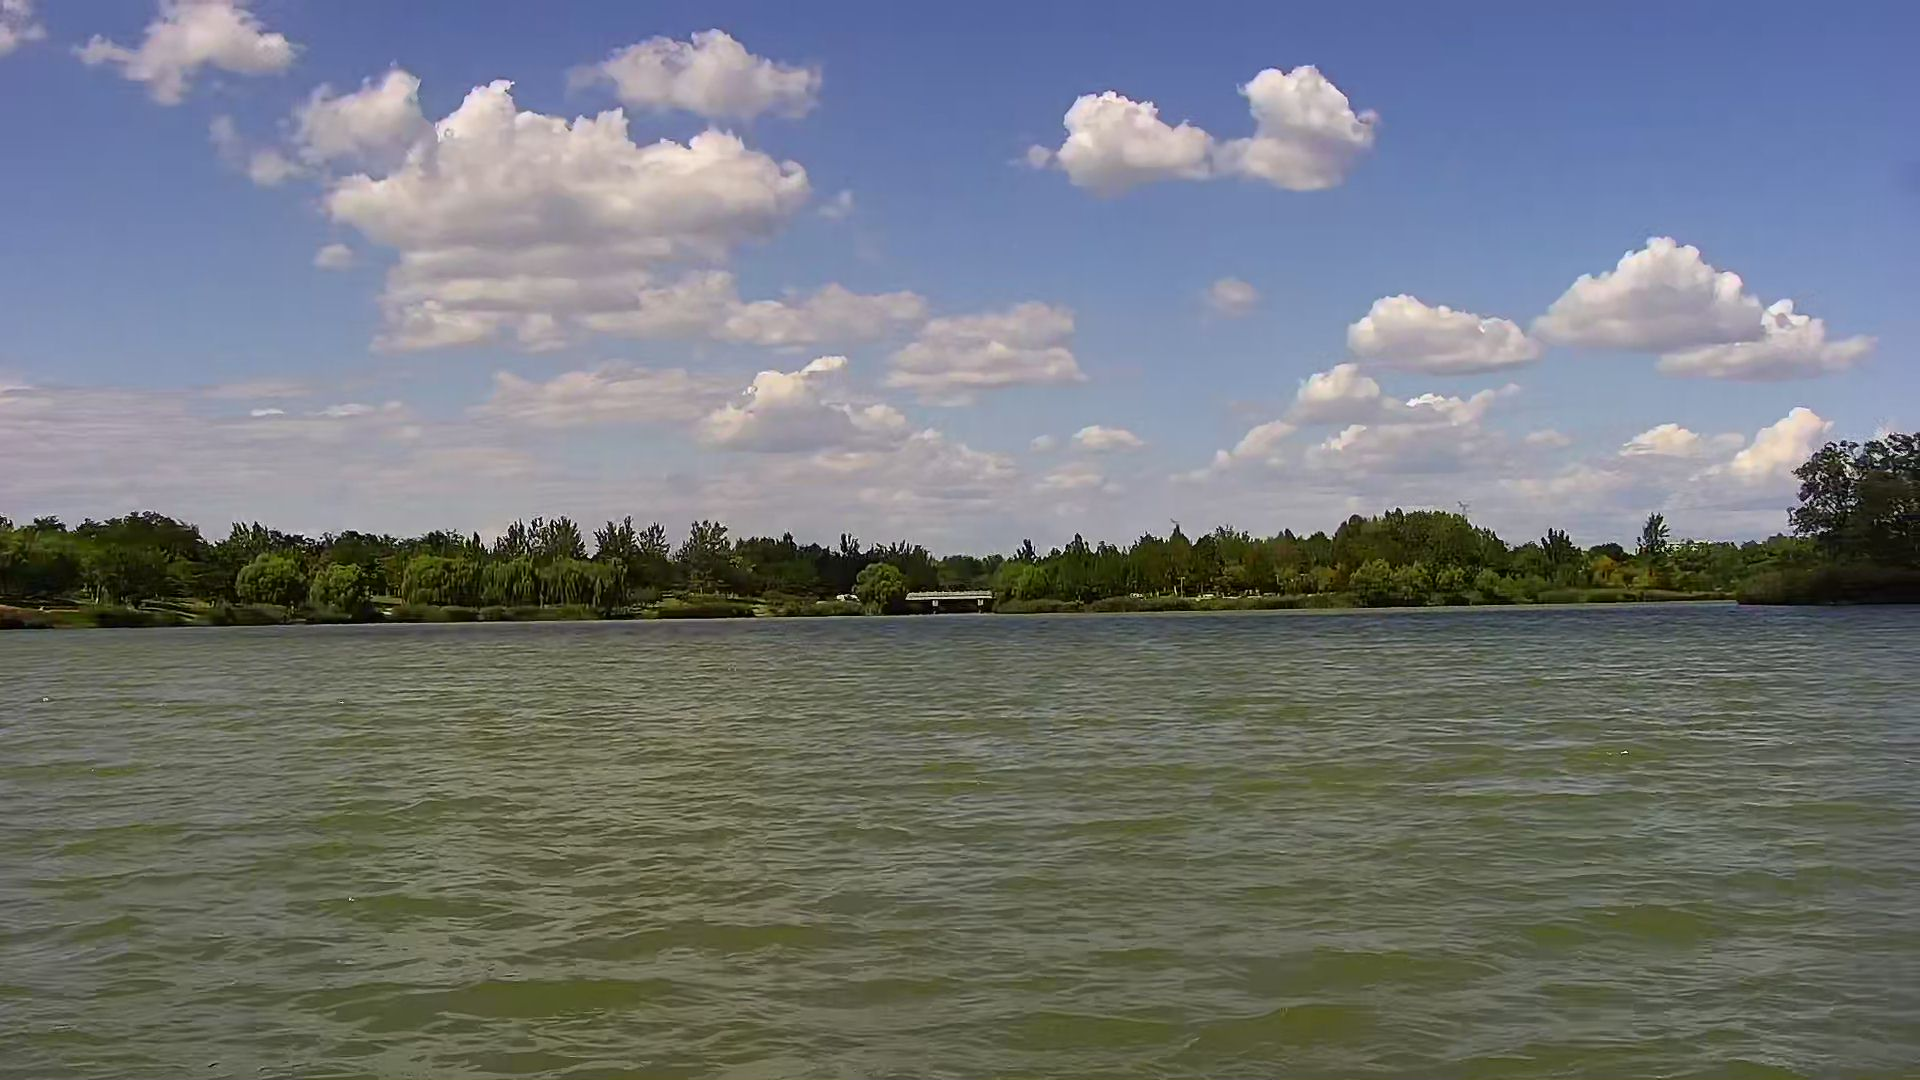bridge: (909, 589, 997, 615)
